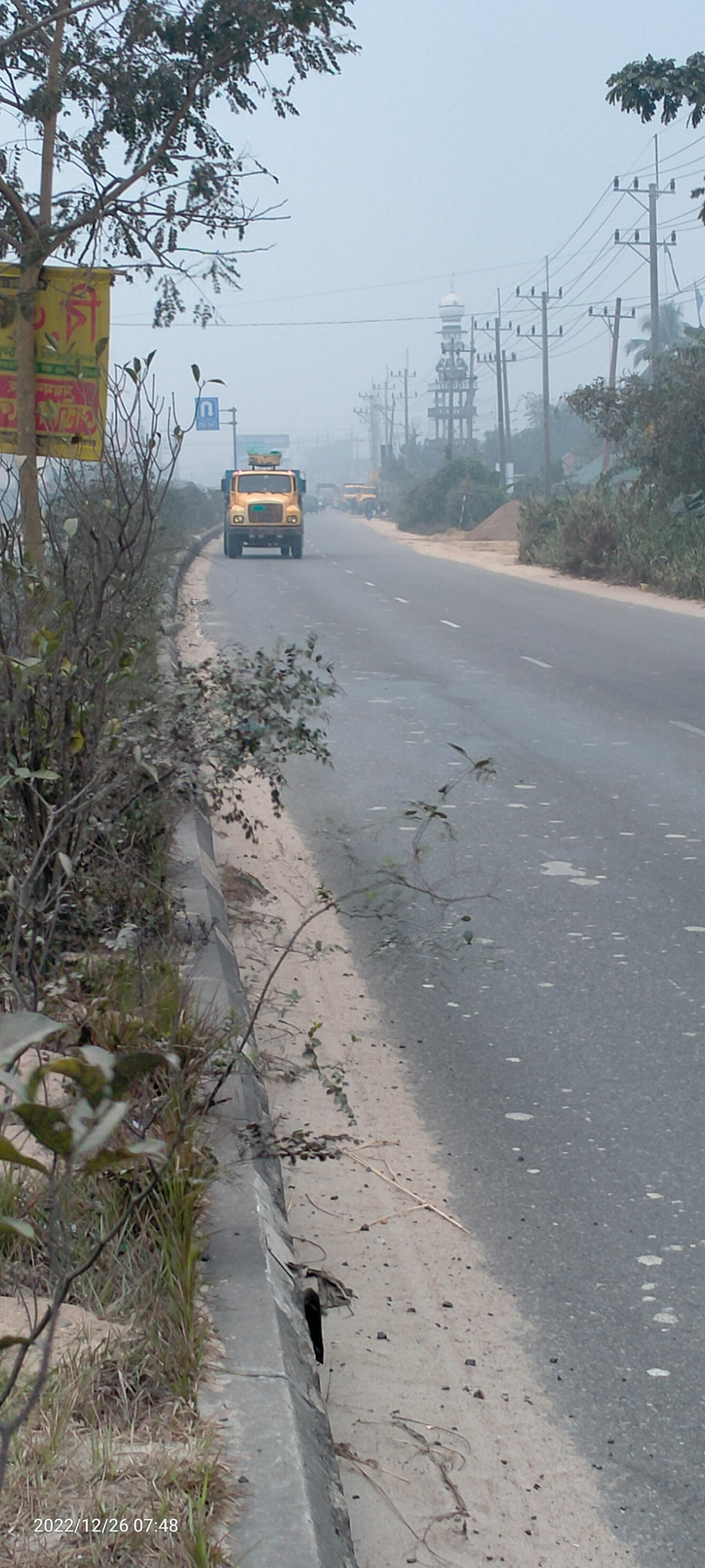Truck: (213, 446, 313, 578), (352, 478, 382, 515)
